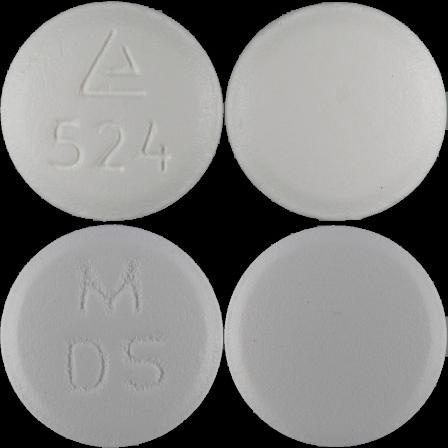49999-588: (0, 0, 224, 224)
